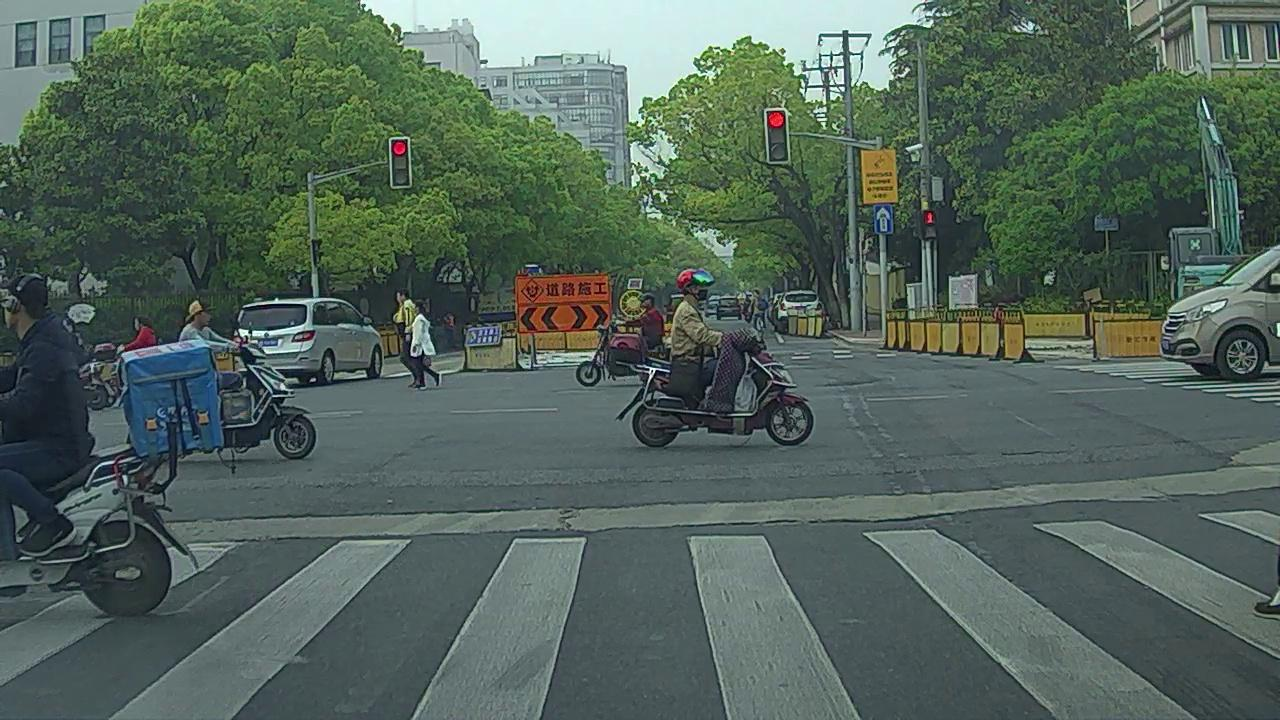traffic_light: (764, 111, 788, 163), (391, 135, 411, 186)
